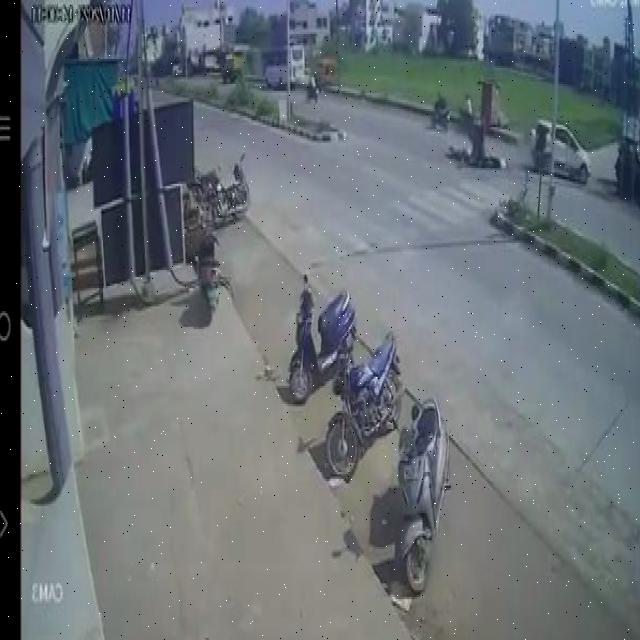accident: (444, 109, 511, 175)
